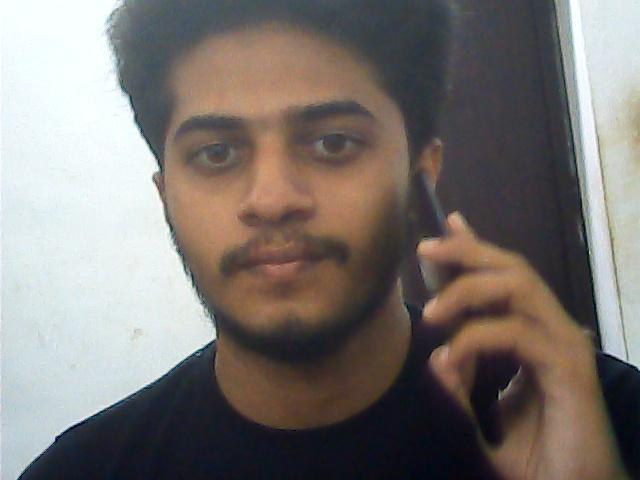PhoneUse: (401, 183, 524, 445)
SafeDriving: (290, 112, 378, 168), (177, 123, 259, 179)
